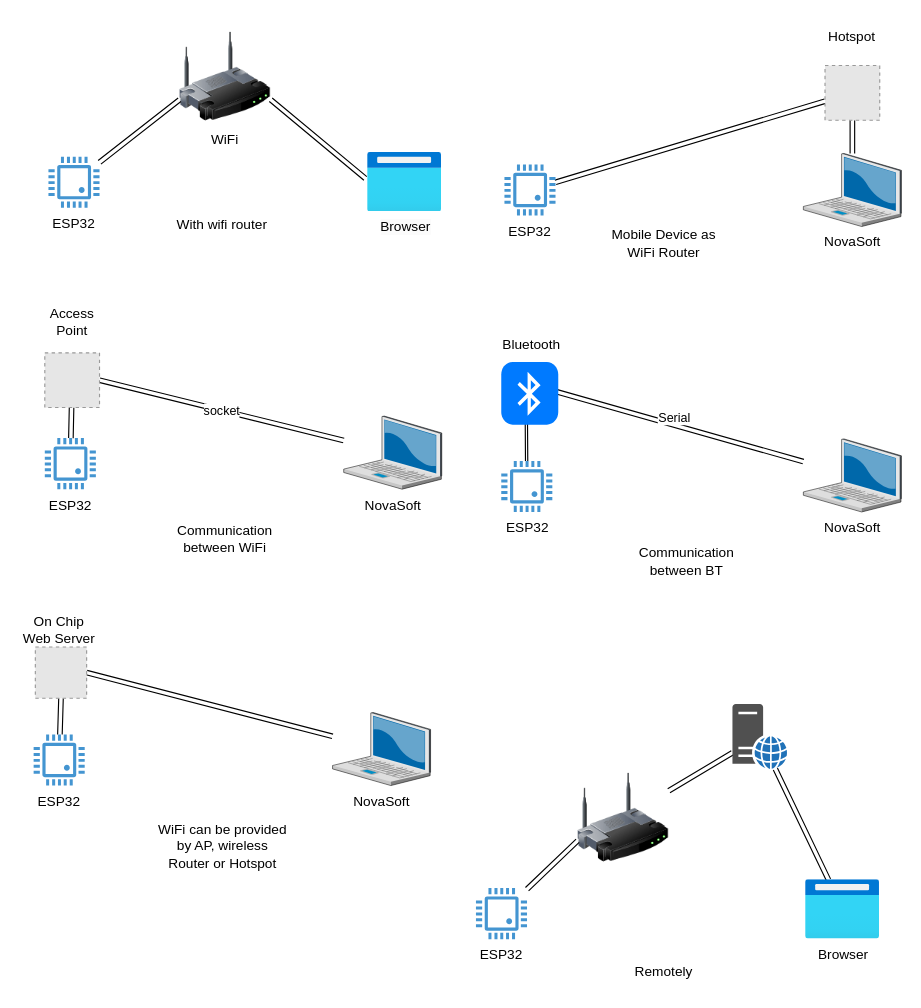
Image size: 921x1008. Some labels were removed from this diagram. Grey dashed boxes stand in for pictures. Each missing label, with the centre of its shape:
"Cloud Server" belongs at point 759,735.
"Wifi Router" belongs at point 622,817.
